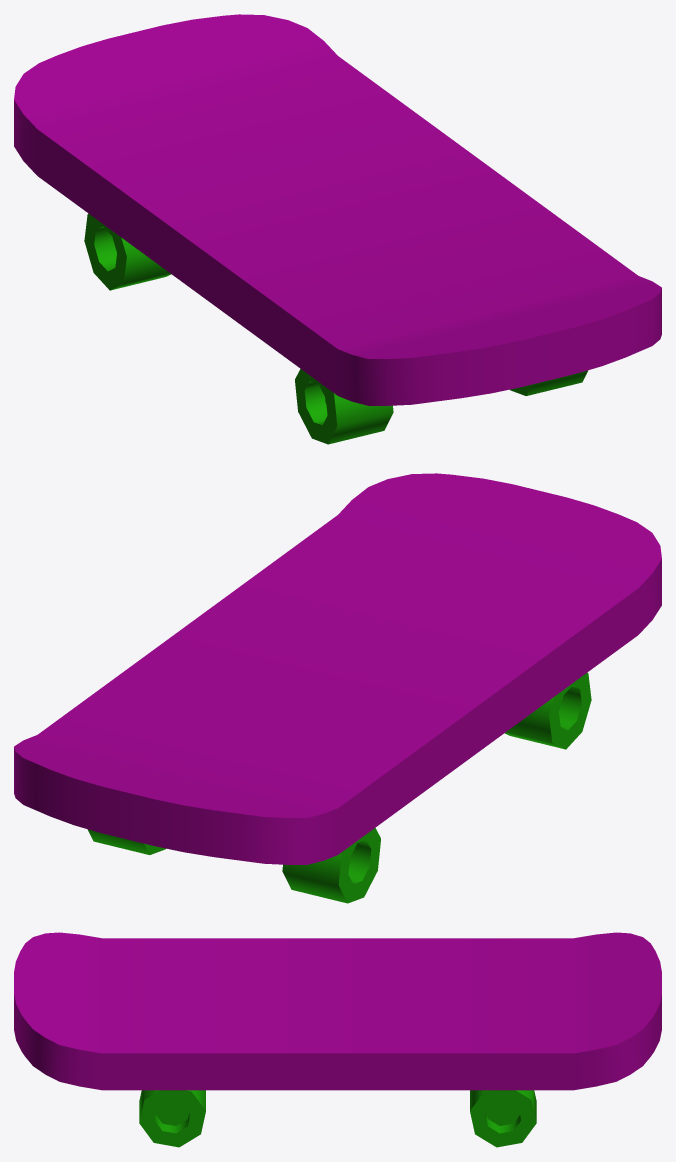
File: Скейт Lowwfbx.fbx
3 renders of one model, top to bottom at view 1: azimuth 30°, elevation 25°; view 2: azimuth 150°, elevation 25°; view 3: azimuth 270°, elevation 25°, orthographic. The views are drawn at different scales.
Parts seen in each view (by area): view 1: Скейт Low; view 2: Скейт Low; view 3: Скейт Low.
Boxes of the visible parts, x1,y1,x2,y2 form: Скейт Low: (14,14,661,444); Скейт Low: (14,473,661,903); Скейт Low: (14,932,661,1147).
Bounding box in the file's own units: 83.14 × 39.57 × 198.
